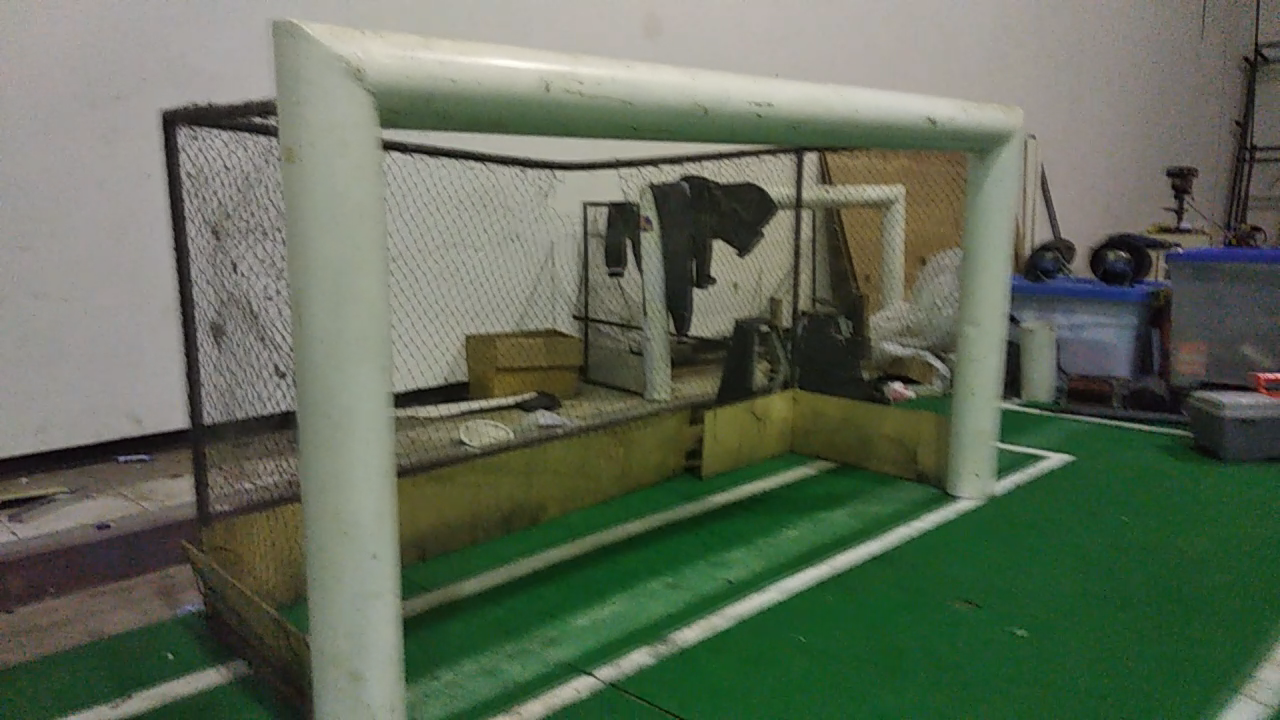gawang: (261, 3, 1056, 717)
